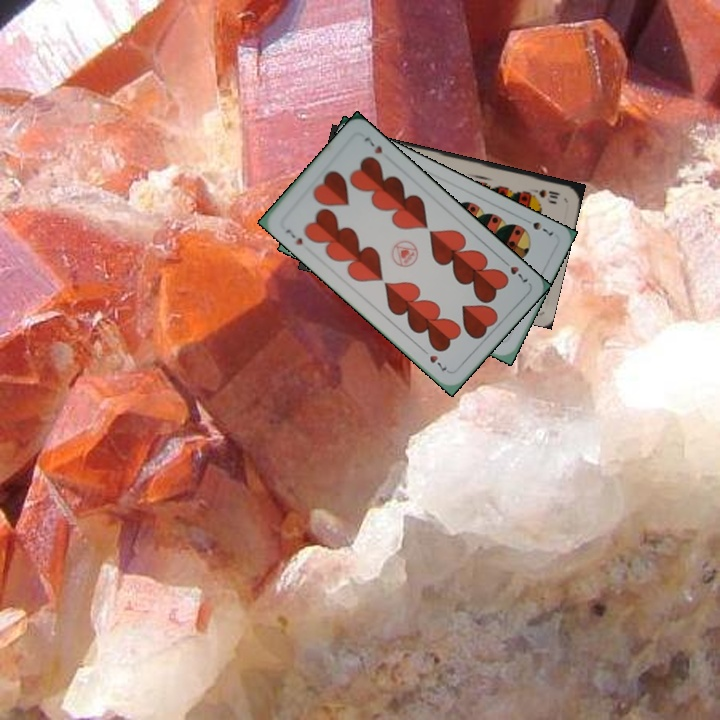H7: (498, 255, 531, 285), (281, 224, 305, 248)
S10: (525, 184, 563, 201)
S7: (520, 214, 556, 238)
